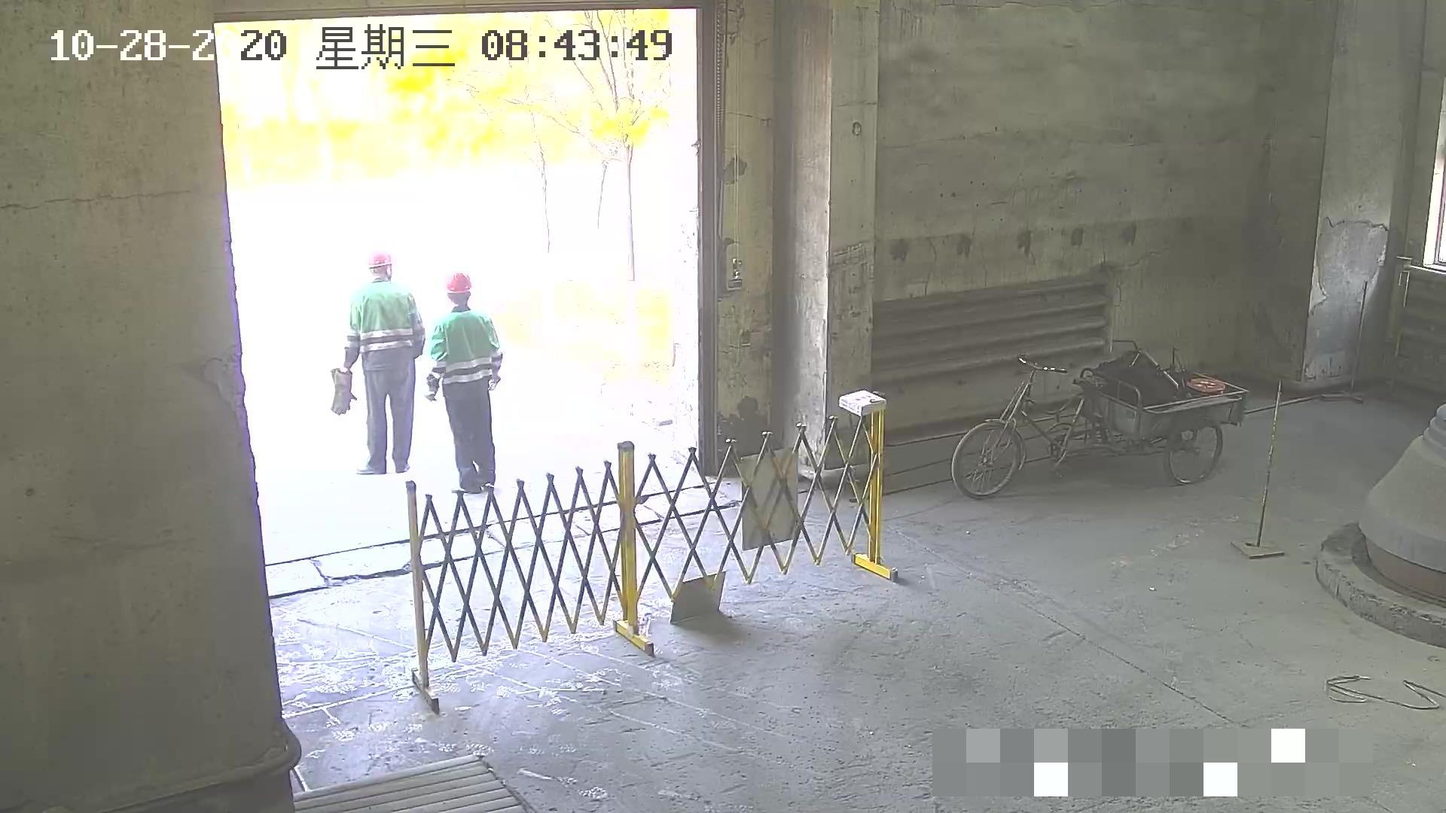hat: (445, 272, 471, 303), (368, 252, 392, 279)
person: (336, 251, 427, 476), (421, 269, 505, 497)
